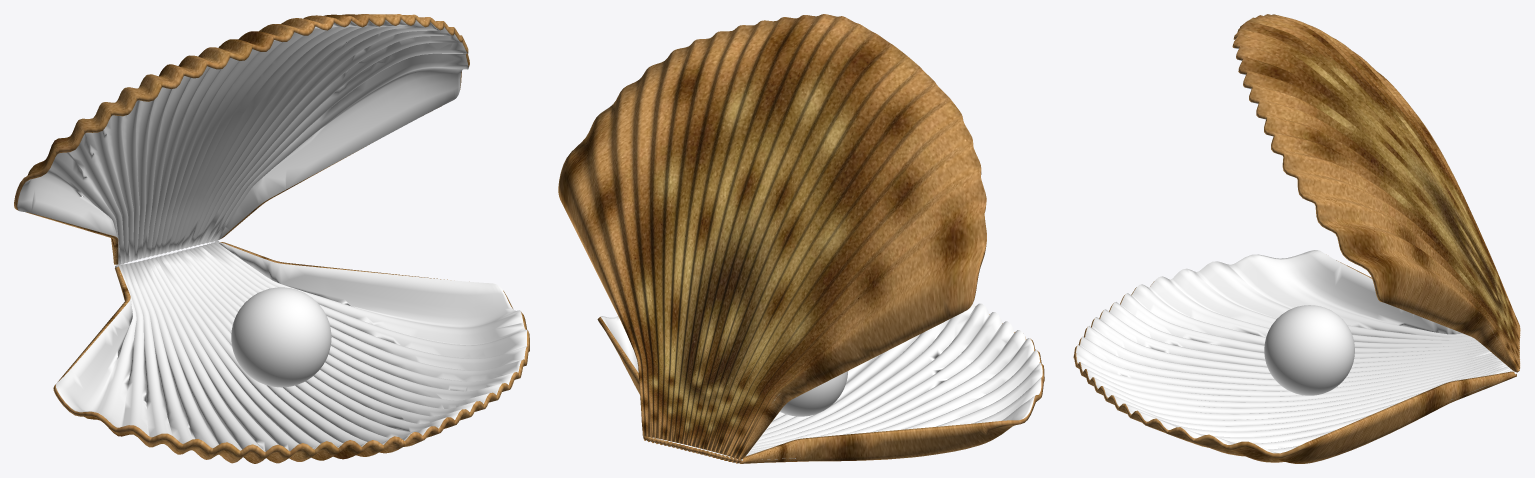
Rendered from oyster.glb.
The picture shows the model from 3 angles, left to right: view 1: azimuth 30°, elevation 25°; view 2: azimuth 150°, elevation 25°; view 3: azimuth 270°, elevation 25°; orthographic projection. The views are drawn at different scales.
Visible parts, largest first — view 1: Plane.002, conch shell above, pearl; view 2: conch shell above, Plane.002, pearl; view 3: Plane.002, conch shell above, pearl.
Boxes of the visible parts, x1,y1,x2,y2 form: Plane.002: (53,241,529,463); conch shell above: (14,14,469,265); pearl: (231,287,331,387); conch shell above: (558,14,986,460); Plane.002: (597,302,1044,463); pearl: (780,371,847,416); Plane.002: (1073,250,1516,463); conch shell above: (1232,14,1520,372); pearl: (1264,305,1354,395).
Size of the model in its own units: 0.1046 by 0.0899 by 0.1009.
Materials: 3 (1 with a texture image).
